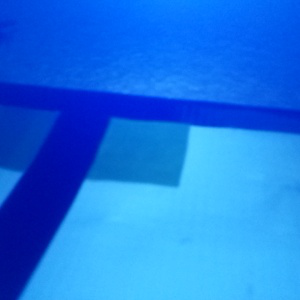bottom_left: (1, 89, 88, 172)
bottom_right: (61, 97, 191, 187)
